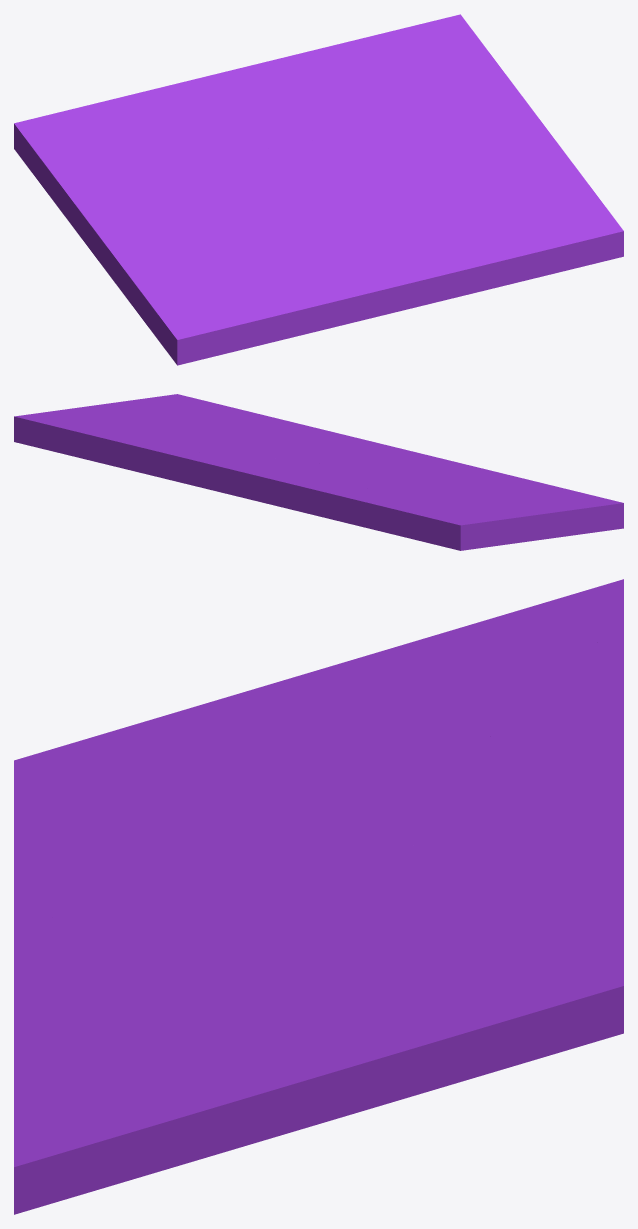
File: Window_162_chunks.fbx
3 views of the same model, one above another, from view 1: azimuth 30°, elevation 25°; view 2: azimuth 150°, elevation 25°; view 3: azimuth 270°, elevation 25° (orthographic). The views are drawn at different scales.
Visible parts, largest first — view 1: Window_162_1, Window_162_0, Window_162_5, Window_162_6, Window_162_4, Window_162_2, Window_162_3; view 2: Window_162_1, Window_162_0, Window_162_4, Window_162_5, Window_162_6, Window_162_2, Window_162_3; view 3: Window_162_0, Window_162_1, Window_162_5, Window_162_6, Window_162_4, Window_162_2, Window_162_3.
Boxes of the visible parts, left/top/right/bottom form: Window_162_1: left=14, top=112, right=364, bottom=365; Window_162_0: left=330, top=81, right=623, bottom=319; Window_162_5: left=316, top=14, right=510, bottom=155; Window_162_6: left=60, top=99, right=340, bottom=153; Window_162_4: left=82, top=42, right=347, bottom=106; Window_162_2: left=78, top=117, right=330, bottom=219; Window_162_3: left=242, top=135, right=364, bottom=173; Window_162_1: left=366, top=459, right=623, bottom=550; Window_162_0: left=65, top=394, right=442, bottom=459; Window_162_4: left=126, top=444, right=409, bottom=535; Window_162_5: left=14, top=409, right=259, bottom=469; Window_162_6: left=222, top=452, right=414, bottom=519; Window_162_2: left=306, top=456, right=408, bottom=510; Window_162_3: left=251, top=448, right=340, bottom=475; Window_162_0: left=14, top=884, right=447, bottom=1214; Window_162_1: left=14, top=579, right=623, bottom=924; Window_162_5: left=343, top=861, right=623, bottom=1085; Window_162_6: left=407, top=621, right=623, bottom=887; Window_162_4: left=506, top=640, right=623, bottom=883; Window_162_2: left=212, top=638, right=601, bottom=888; Window_162_3: left=321, top=798, right=419, bottom=913.
Bounding box in the file's own units: 1838 × 482 × 1165.
